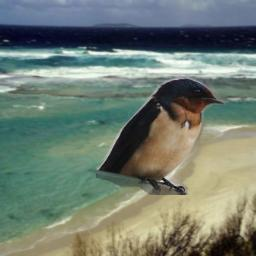Swallow: (96, 77, 226, 195)
